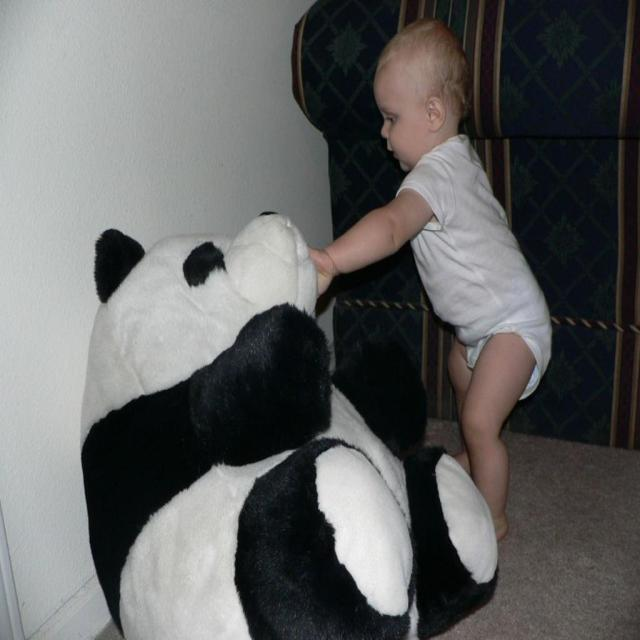panda: (78, 204, 502, 639)
